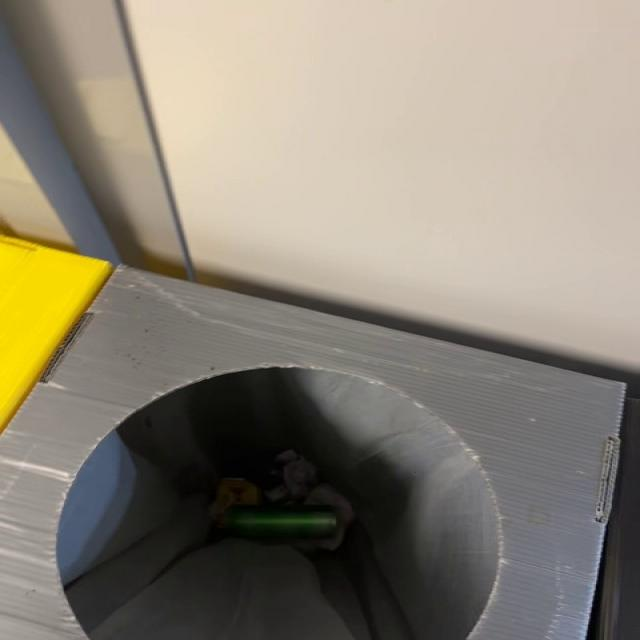bin: (1, 268, 624, 640)
metal: (224, 506, 339, 540)
